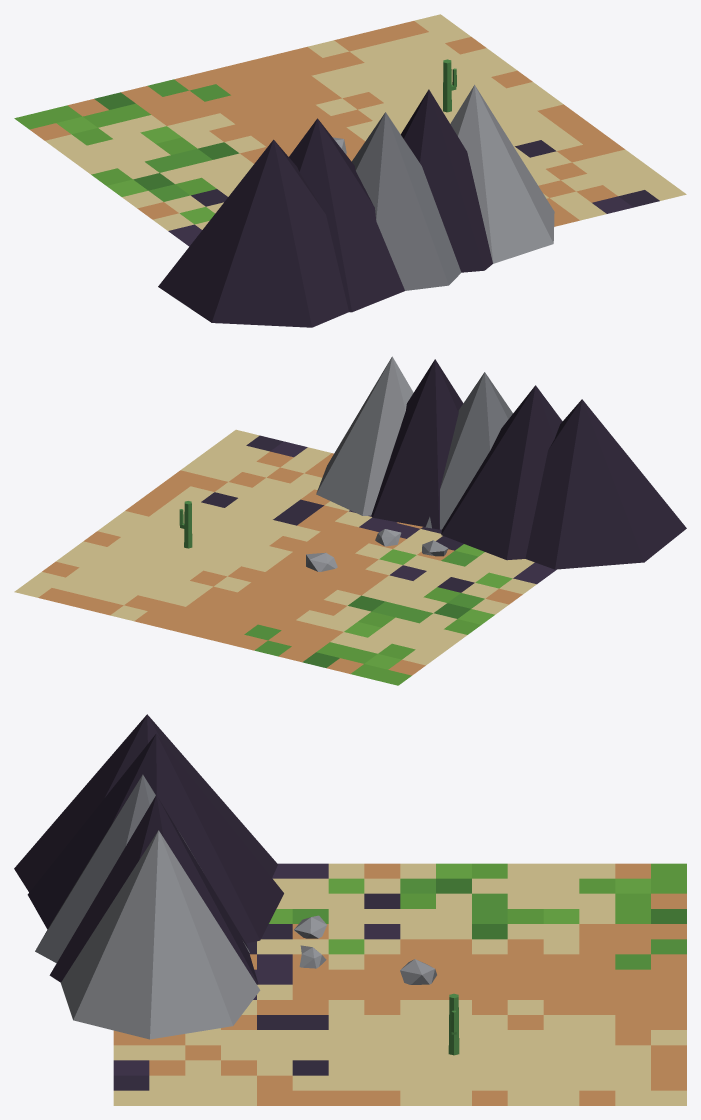
File: chunk_8_21.glb
3 renders of one model, top to bottom at view 1: azimuth 30°, elevation 25°; view 2: azimuth 150°, elevation 25°; view 3: azimuth 270°, elevation 25°, orthographic. The views are drawn at different scales.
Visible parts, largest first — view 1: chunk_8_21; view 2: chunk_8_21; view 3: chunk_8_21.
Boxes of the visible parts, x1=… form: chunk_8_21: x1=14, y1=14, x2=686, y2=327; chunk_8_21: x1=14, y1=356, x2=686, y2=685; chunk_8_21: x1=14, y1=714, x2=686, y2=1105.
Bounding box in the file's own units: 18.43 × 5.71 × 18.78.
